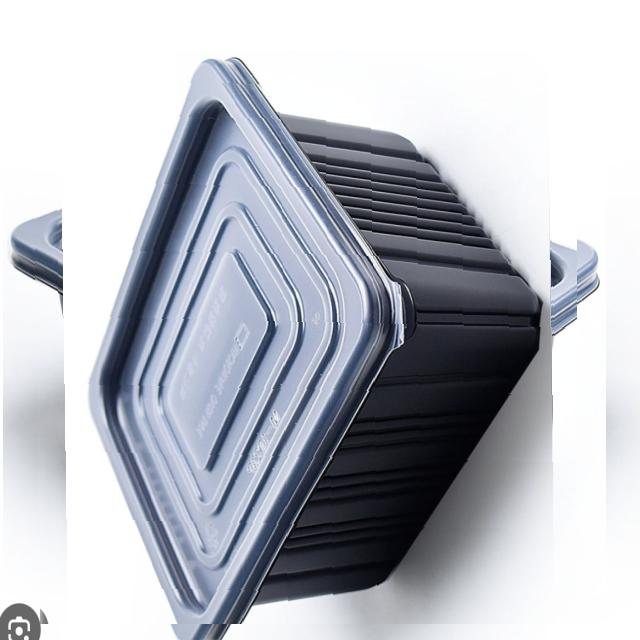recyclable: (32, 79, 577, 624)
